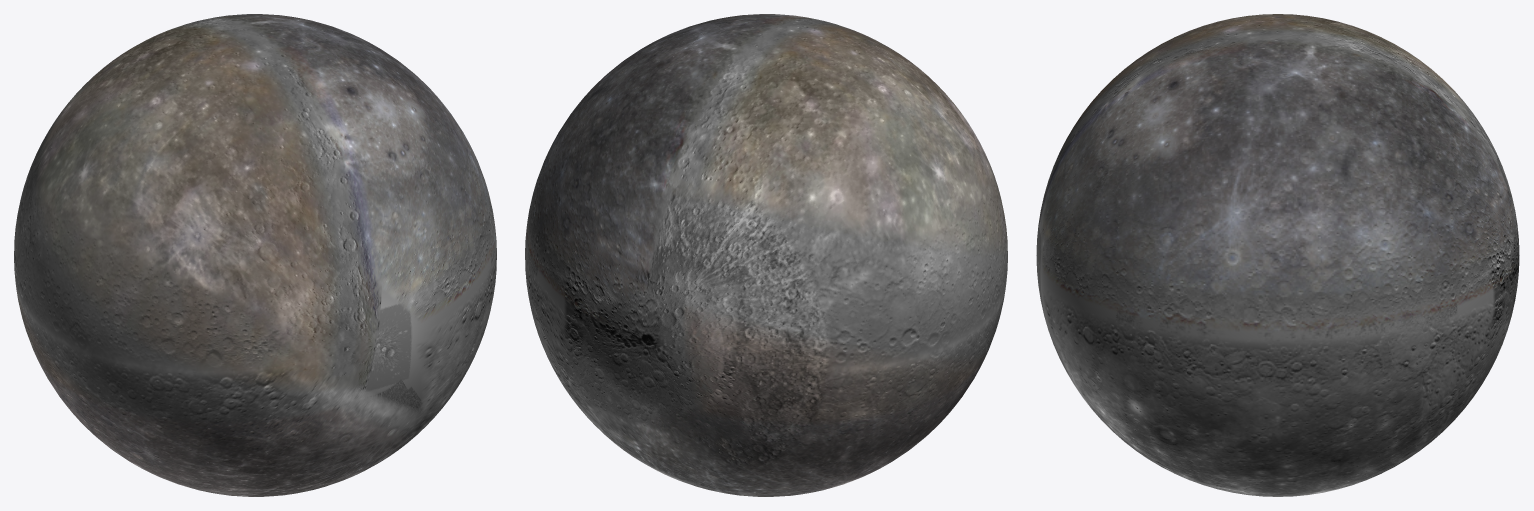
File: mercury.obj
3 views of the same model, side by side, from view 1: azimuth 30°, elevation 25°; view 2: azimuth 150°, elevation 25°; view 3: azimuth 270°, elevation 25° (orthographic).
Visible parts, largest first — view 1: Sphere001; view 2: Sphere001; view 3: Sphere001.
Boxes of the visible parts, bbox=[...] form: Sphere001: bbox=[14, 14, 496, 496]; Sphere001: bbox=[525, 14, 1007, 496]; Sphere001: bbox=[1036, 14, 1519, 496].
Bounding box in the file's own units: 20 × 20 × 20.
Materials: 1 (1 with a texture image).
